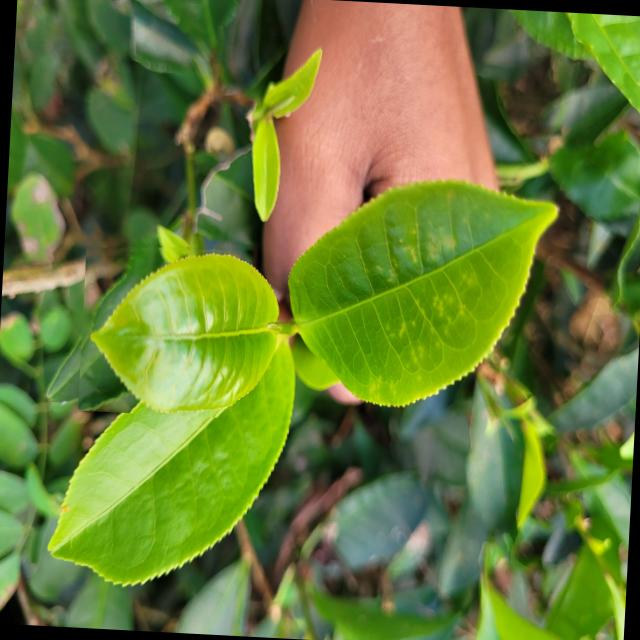Catagory A 1-2 days: (77, 236, 292, 422)
